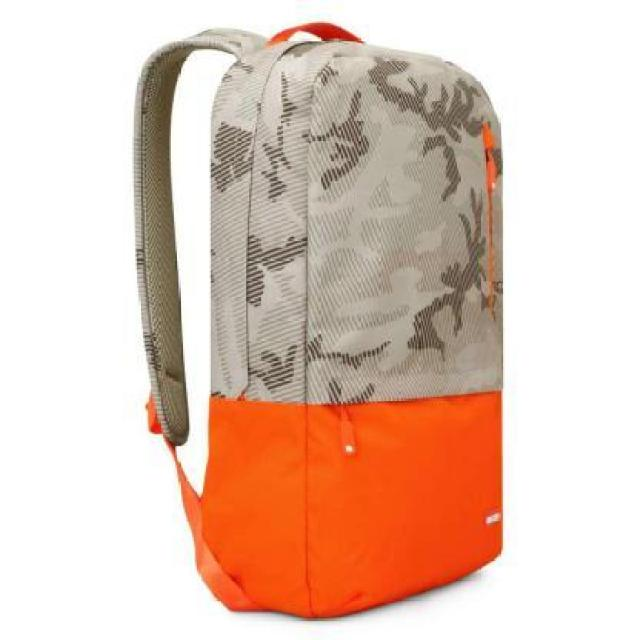backpack: (126, 18, 511, 624)
